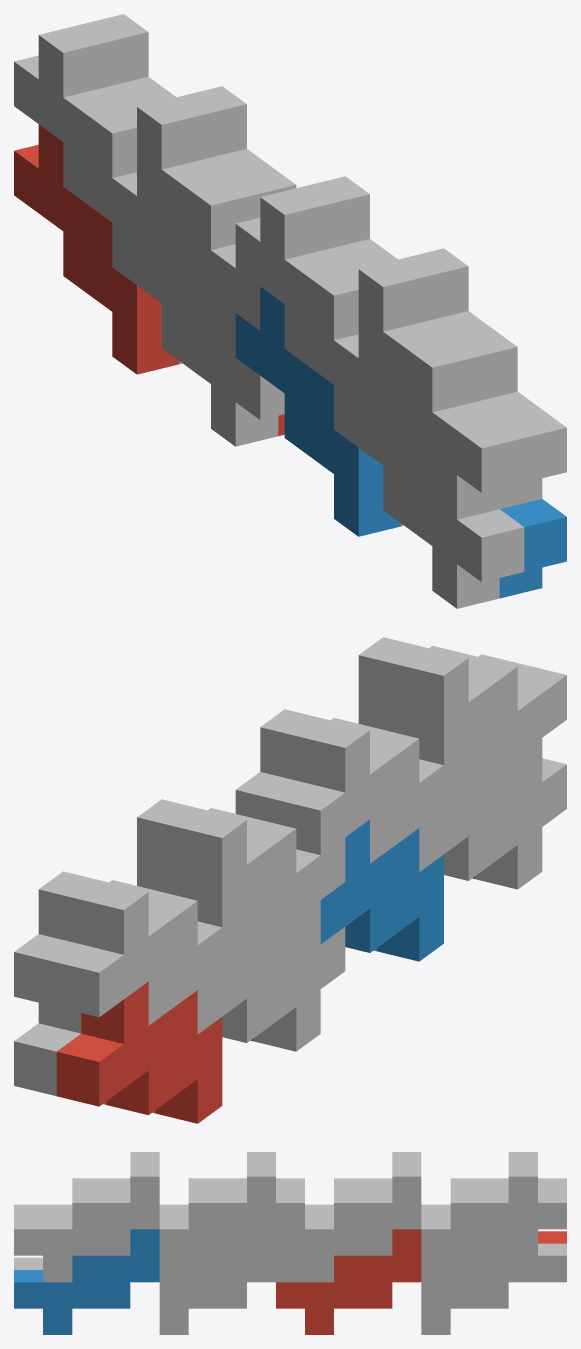
Rendered from tiling.obj.
The picture shows the model from 3 angles, top to bottom: view 1: azimuth 30°, elevation 25°; view 2: azimuth 150°, elevation 25°; view 3: azimuth 270°, elevation 25°; orthographic projection. The views are drawn at different scales.
Visible parts, largest first — view 1: copy_2_domain_4, copy_2_domain_3, copy_1_domain_4, copy_1_domain_3, copy_2_domain_2, copy_1_domain_1, copy_1_domain_2, copy_2_domain_1, copy_2_domain_8, copy_2_domain_7, copy_1_domain_7, copy_1_domain_8 (+1 smaller); view 2: copy_1_domain_3, copy_1_domain_4, copy_2_domain_4, copy_1_domain_1, copy_2_domain_3, copy_2_domain_2, copy_2_domain_1, copy_1_domain_2, copy_1_domain_7, copy_1_domain_8, copy_2_domain_8, copy_2_domain_7 (+1 smaller); view 3: copy_1_domain_7, copy_1_domain_8, copy_2_domain_8, copy_2_domain_7, copy_1_domain_5, copy_2_domain_6, copy_1_domain_6, copy_2_domain_5, copy_1_domain_3, copy_2_domain_4, copy_1_domain_4, copy_2_domain_3 (+2 smaller).
Part boxes in pixels (left/top/right/bottom): copy_2_domain_4: left=358, top=259, right=524, bottom=519; copy_2_domain_3: left=137, top=96, right=260, bottom=357; copy_1_domain_4: left=235, top=186, right=358, bottom=447; copy_1_domain_3: left=14, top=24, right=136, bottom=284; copy_2_domain_2: left=358, top=359, right=524, bottom=608; copy_1_domain_1: left=14, top=124, right=179, bottom=374; copy_1_domain_2: left=235, top=286, right=401, bottom=536; copy_2_domain_1: left=137, top=196, right=284, bottom=446; copy_2_domain_8: left=401, top=248, right=566, bottom=508; copy_2_domain_7: left=180, top=86, right=296, bottom=218; copy_1_domain_7: left=81, top=14, right=175, bottom=109; copy_1_domain_8: left=303, top=176, right=397, bottom=271; copy_1_domain_3: left=56, top=882, right=222, bottom=1034; copy_1_domain_4: left=278, top=719, right=443, bottom=871; copy_2_domain_4: left=401, top=647, right=566, bottom=799; copy_1_domain_1: left=56, top=981, right=222, bottom=1123; copy_2_domain_3: left=179, top=809, right=345, bottom=961; copy_2_domain_2: left=444, top=747, right=566, bottom=889; copy_2_domain_1: left=222, top=909, right=345, bottom=1051; copy_1_domain_2: left=320, top=819, right=443, bottom=961; copy_1_domain_7: left=14, top=871, right=154, bottom=1006; copy_1_domain_8: left=235, top=709, right=376, bottom=823; copy_2_domain_8: left=358, top=637, right=523, bottom=733; copy_2_domain_7: left=137, top=799, right=252, bottom=896; copy_1_domain_7: left=421, top=1164, right=566, bottom=1282; copy_1_domain_8: left=159, top=1164, right=304, bottom=1282; copy_2_domain_8: left=14, top=1164, right=159, bottom=1282; copy_2_domain_7: left=276, top=1164, right=421, bottom=1282; copy_1_domain_5: left=421, top=1229, right=566, bottom=1334; copy_2_domain_6: left=14, top=1229, right=159, bottom=1334; copy_1_domain_6: left=159, top=1229, right=304, bottom=1334; copy_2_domain_5: left=276, top=1229, right=421, bottom=1334; copy_1_domain_3: left=421, top=1152, right=566, bottom=1216; copy_2_domain_4: left=14, top=1152, right=159, bottom=1216; copy_1_domain_4: left=159, top=1152, right=304, bottom=1216; copy_2_domain_3: left=305, top=1152, right=421, bottom=1216.
Size of the model in its own units: 2 by 6 by 19.
